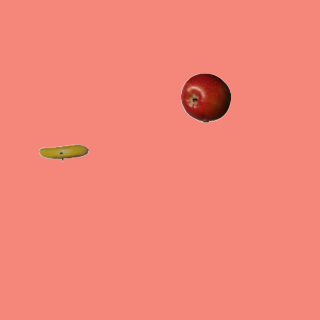Apple Braeburn: (180, 72, 230, 122)
Banana: (38, 127, 88, 177)
